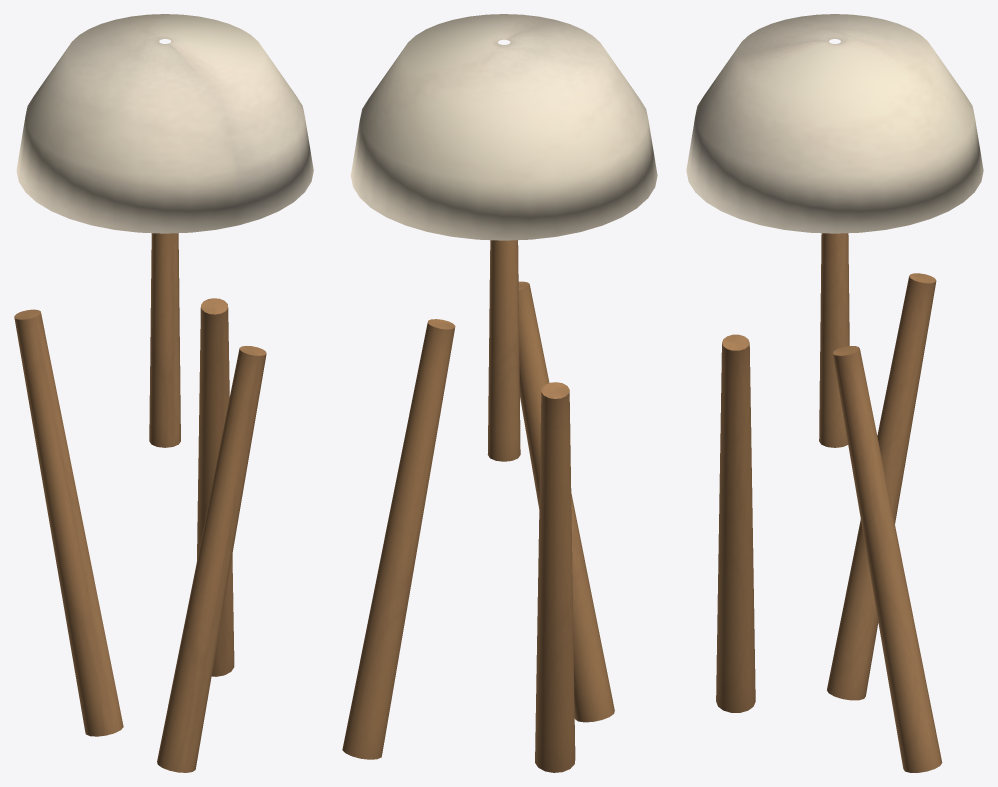
Rendered from ikea-lauters.glb.
3 views of the same model, side by side, from view 1: azimuth 30°, elevation 25°; view 2: azimuth 150°, elevation 25°; view 3: azimuth 270°, elevation 25° (orthographic). The views are drawn at different scales.
Parts seen in each view (by area): view 1: cream, wood (×4); view 2: cream, wood (×4); view 3: cream, wood (×4).
Boxes of the visible parts, x1,y1,x2,y2 form: cream: (16,14,313,233); wood (×4): (14,233,266,772); cream: (350,14,657,240); wood (×4): (342,240,614,772); cream: (686,14,983,233); wood (×4): (716,233,942,772).
Size of the model in its own units: 0.6 by 1.52 by 0.6.
Materials: 3 (3 with a texture image).
